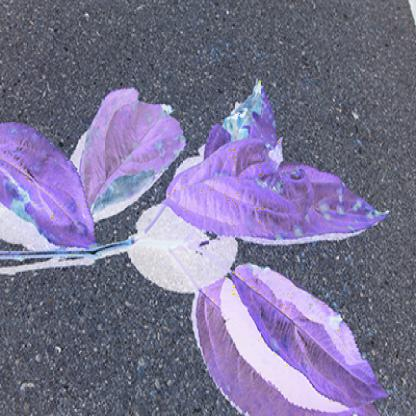apple scab leaf: (166, 143, 394, 269), (228, 251, 389, 413), (84, 82, 183, 239), (1, 118, 95, 279)
